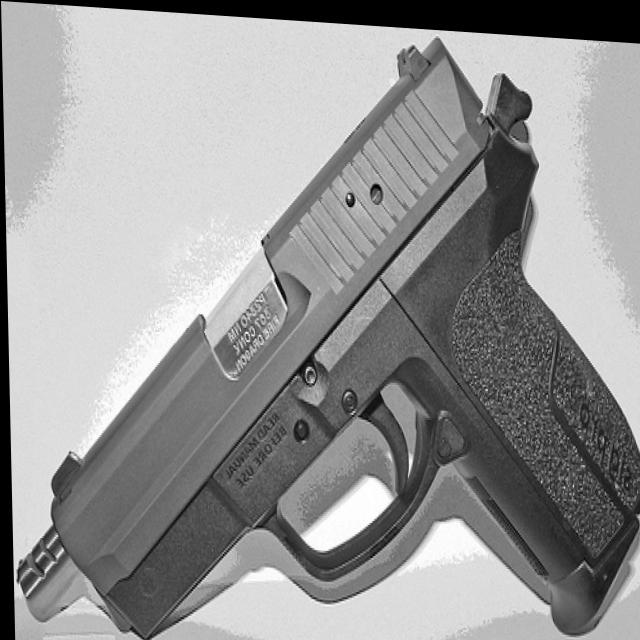handgun: (8, 4, 640, 640)
